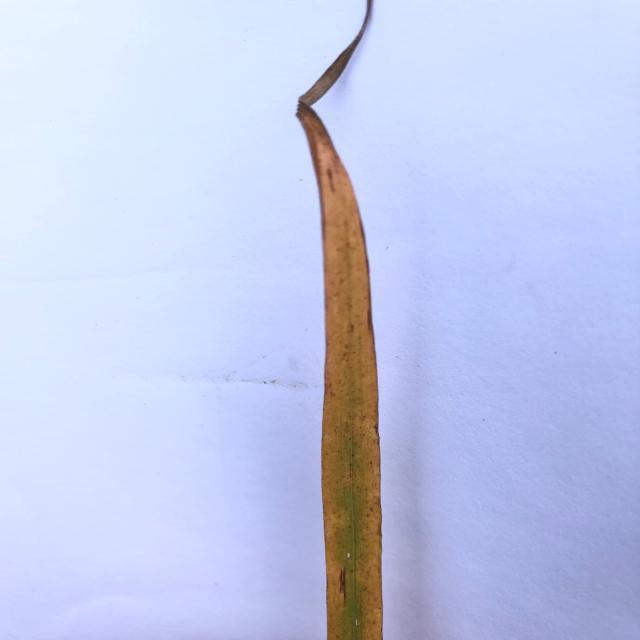Rice Tungro: (300, 0, 395, 640)
